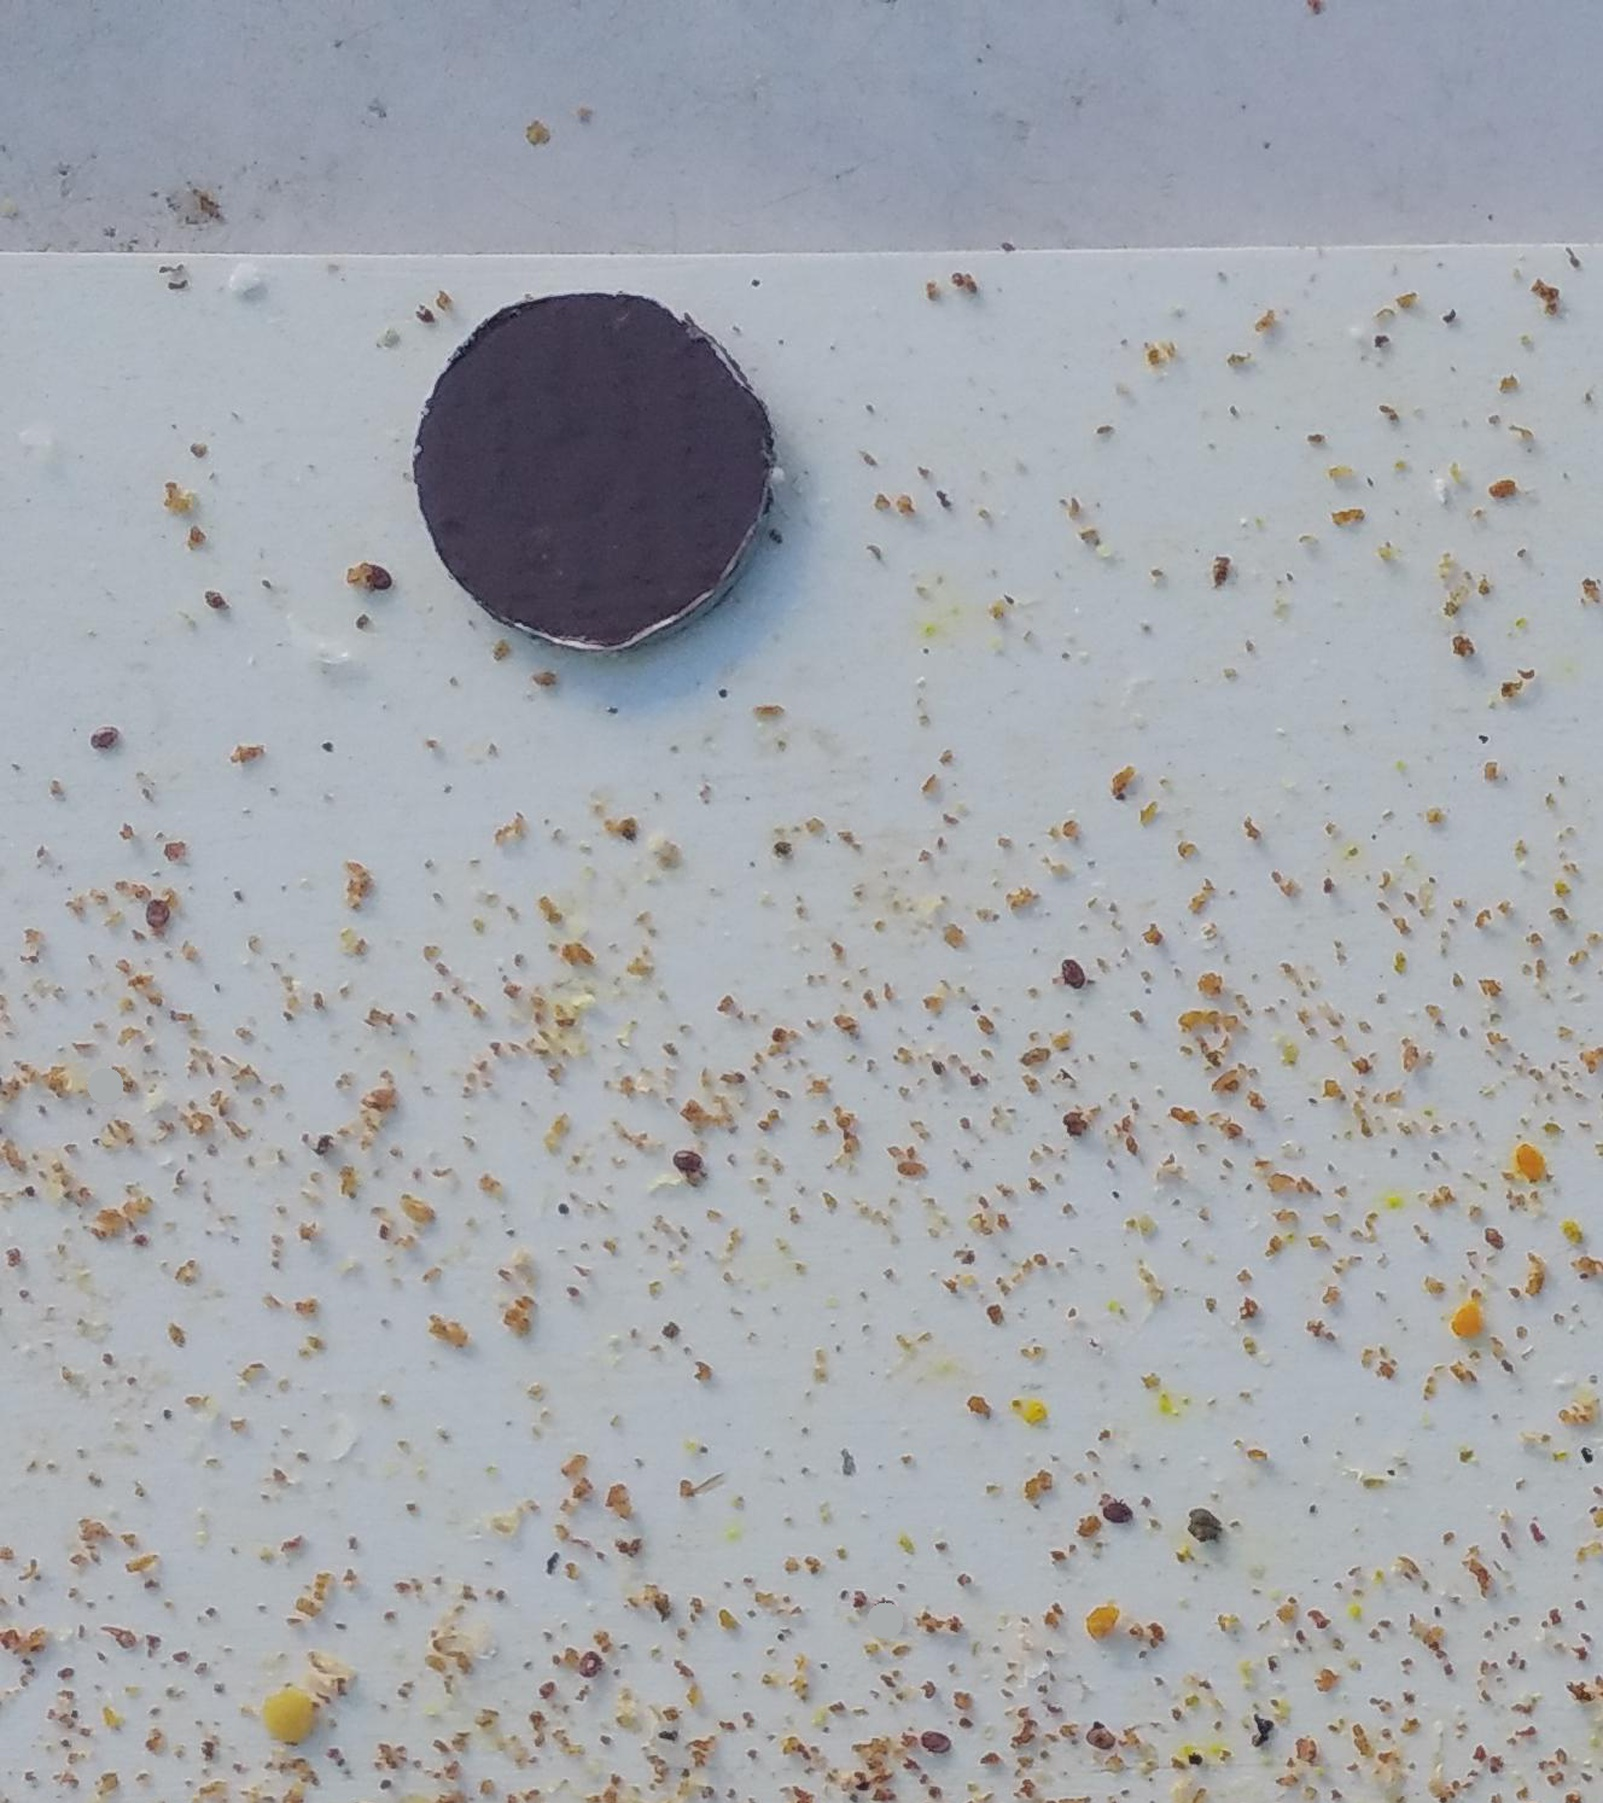Varroa: (681, 1145, 706, 1185), (144, 901, 172, 930), (91, 726, 121, 754), (1054, 963, 1082, 990), (579, 1647, 607, 1675), (362, 566, 388, 596), (1088, 1724, 1117, 1750), (1105, 1500, 1131, 1526), (871, 1586, 897, 1613), (925, 1727, 947, 1747)
